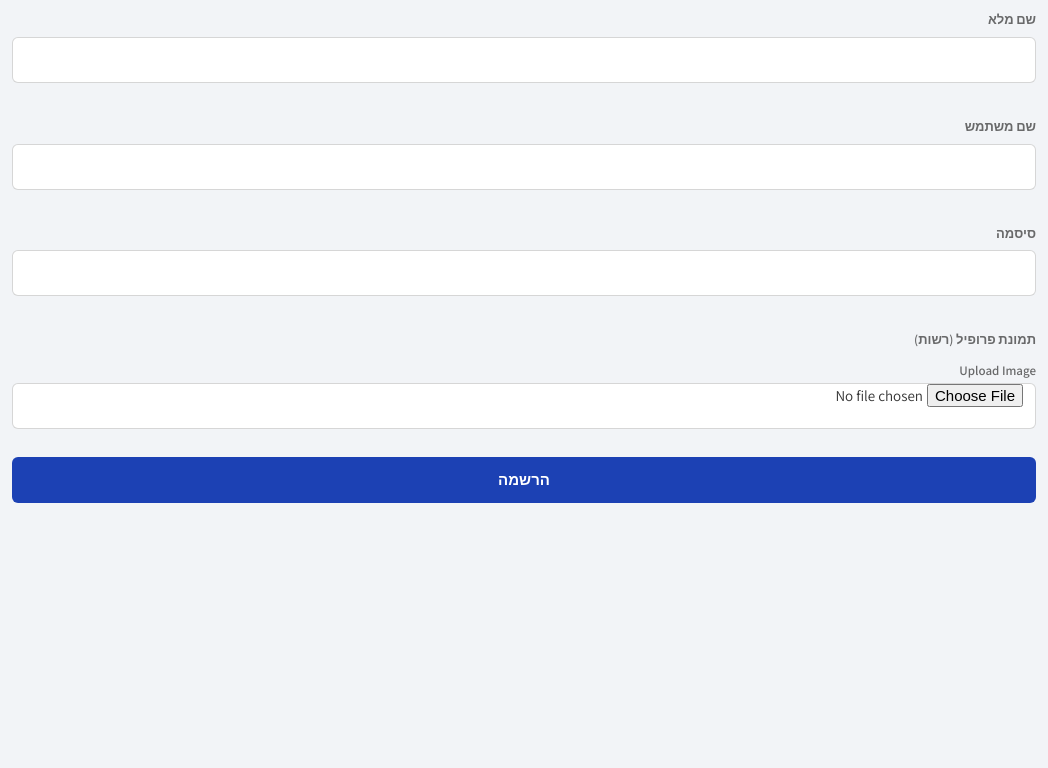
the client-side guards › no username — names the missing field and sends no request
The image size is (1048, 768).
Step 1. Type "Test Shopper" into the field labelled "שם מלא" → (524, 60), box [12,37,1036,83]
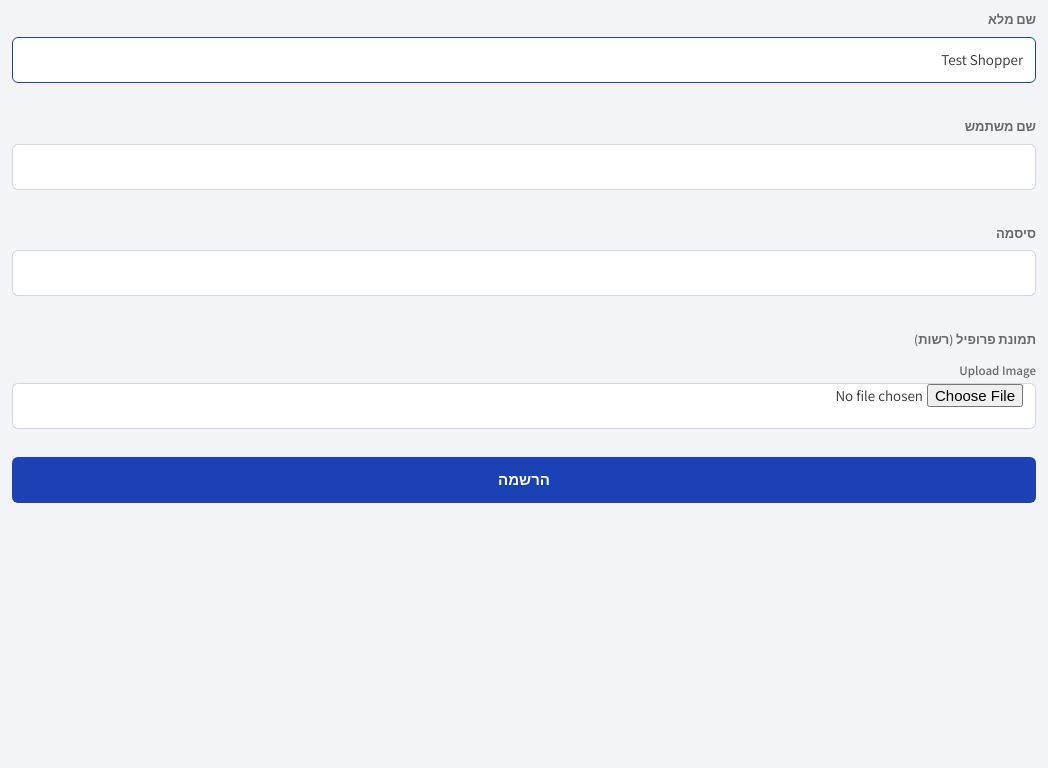
Step 2. Type "Passw0rd!" into the password field labelled "סיסמה" → (524, 273), box [12,250,1036,296]
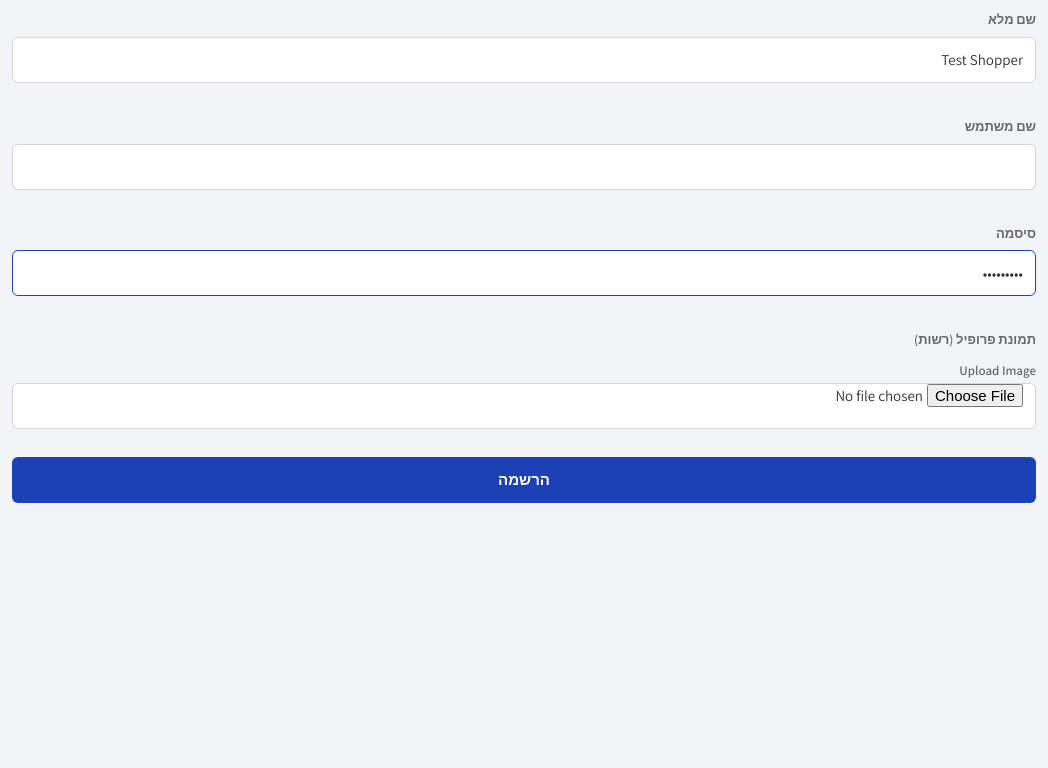
Step 3. Click the button "הרשמה" → (524, 480), box [12,457,1036,503]
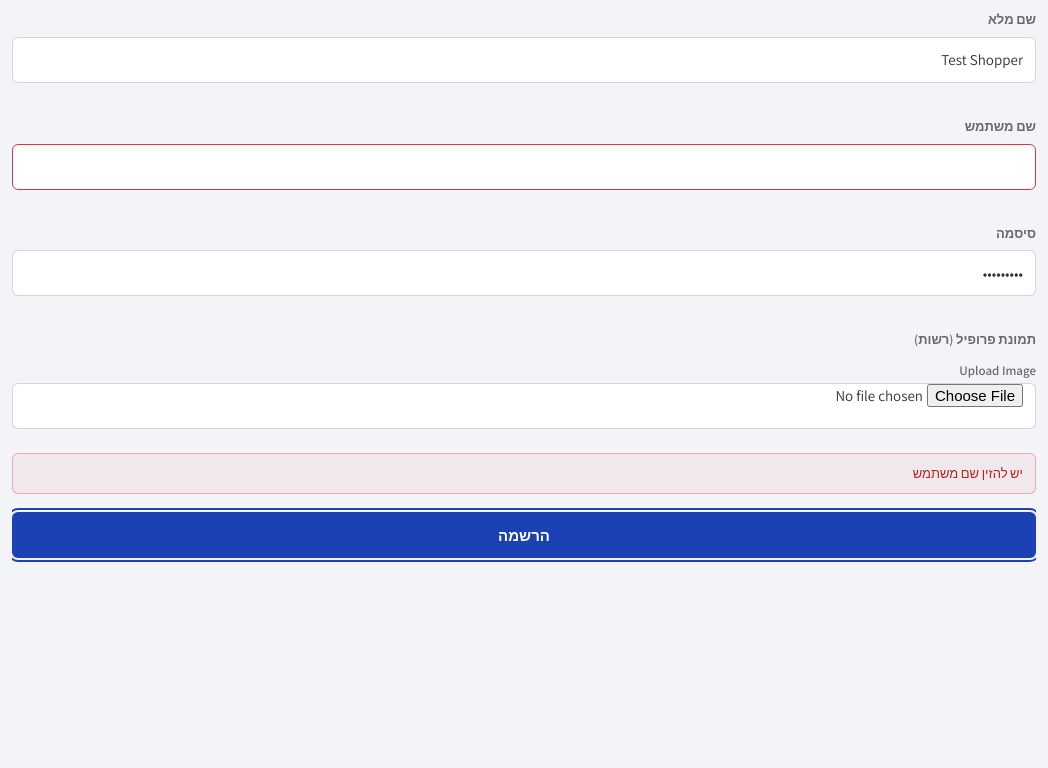
Expected: the message reads "יש להזין שם משתמש", [913,465,1023,482]
